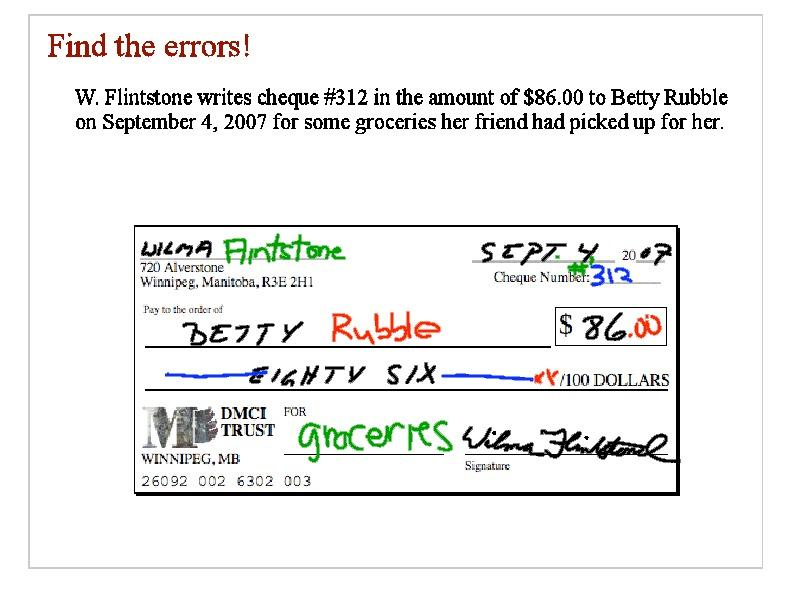paragraph: (73, 76, 745, 517)
title: (36, 18, 252, 67)
